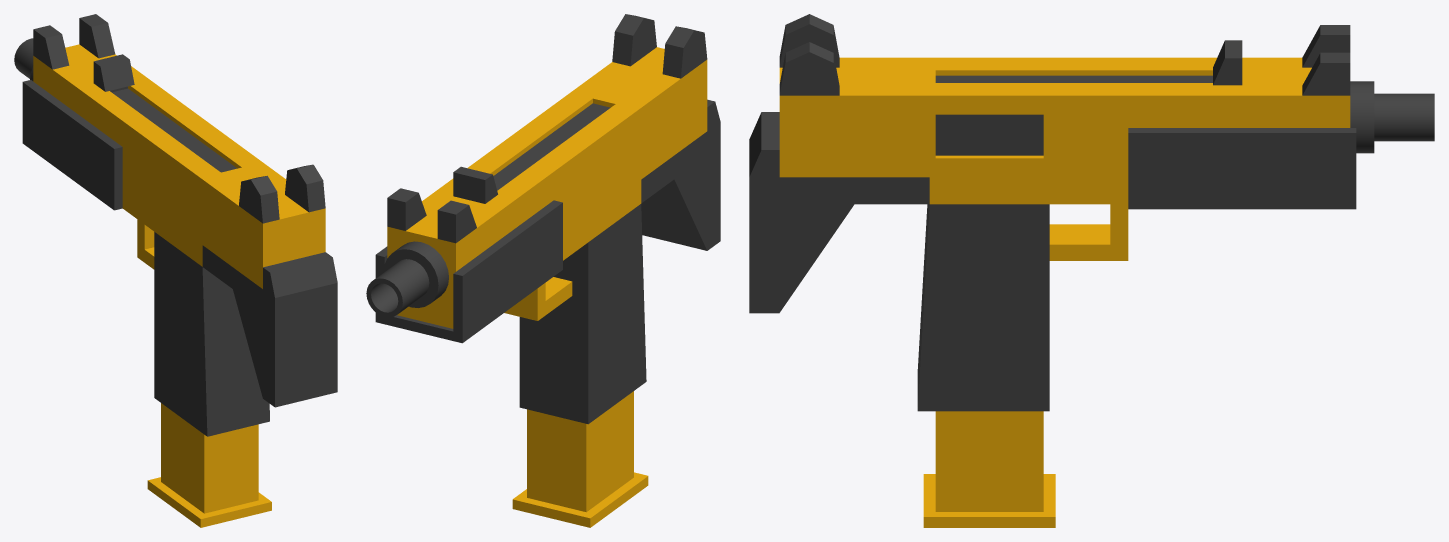
File: uziLongGold.dae
3 views of the same model, side by side, from view 1: azimuth 30°, elevation 25°; view 2: azimuth 150°, elevation 25°; view 3: azimuth 270°, elevation 25° (orthographic). The views are drawn at different scales.
Parts seen in each view (by area): view 1: Group (×4); view 2: Group (×4); view 3: Group (×4).
Boxes of the visible parts, bbox=[...] form: Group (×4): bbox=[14, 14, 337, 527]; Group (×4): bbox=[366, 14, 720, 527]; Group (×4): bbox=[749, 14, 1434, 527].
Bounding box in the file's own units: 0.0727 × 0.333 × 0.4368.
